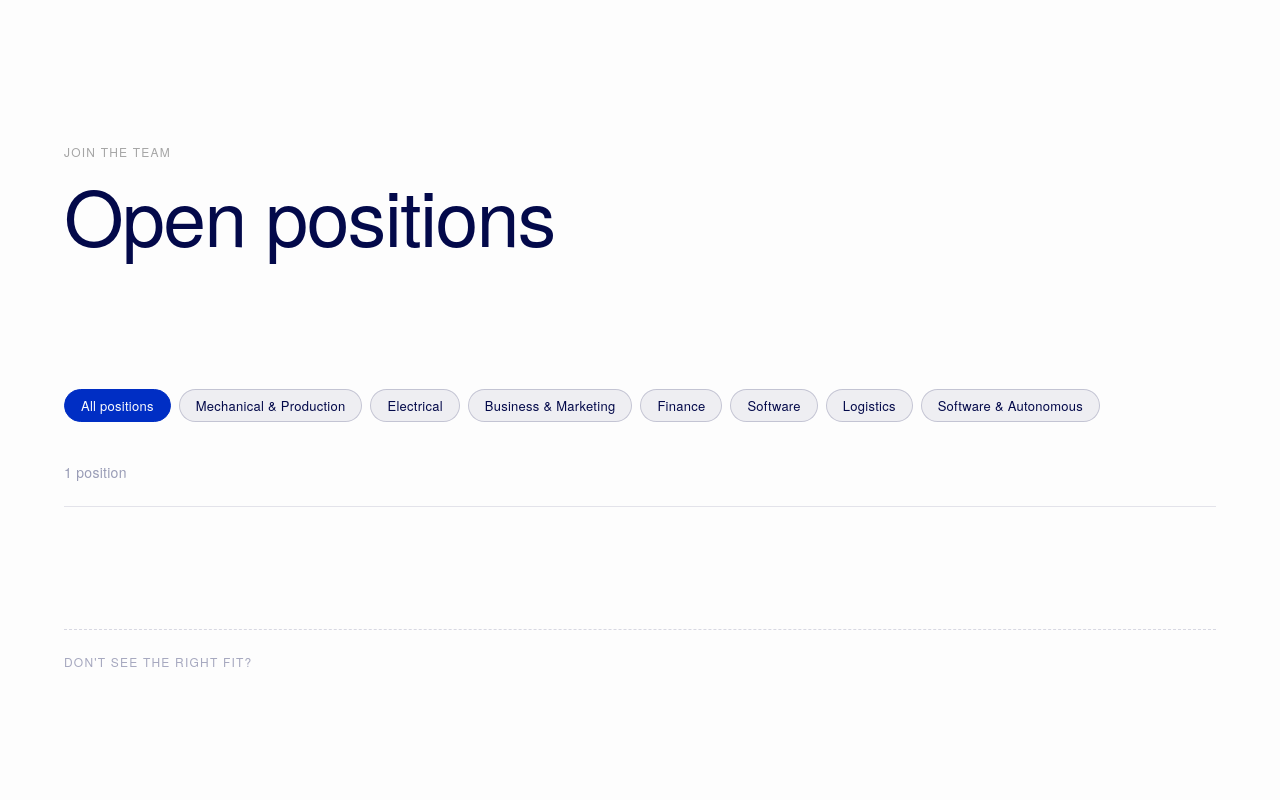
Scenario: shows every visible open posting and department supplied by the catalog
The image size is (1280, 800).
Click the button "Software & Autonomous". click: (1010, 406)
box: [921,389,1100,422]
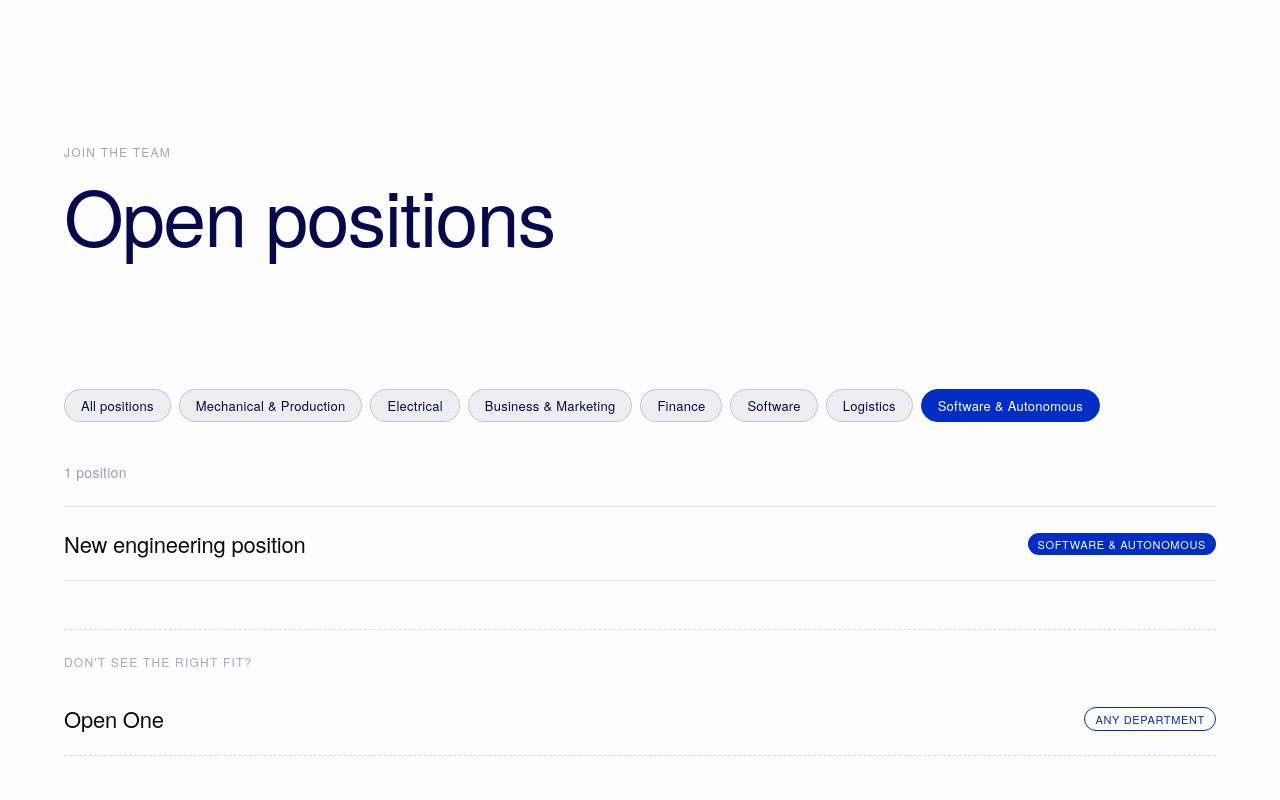
Expected: the text "New engineering position" is shown, [64,527,306,560]
